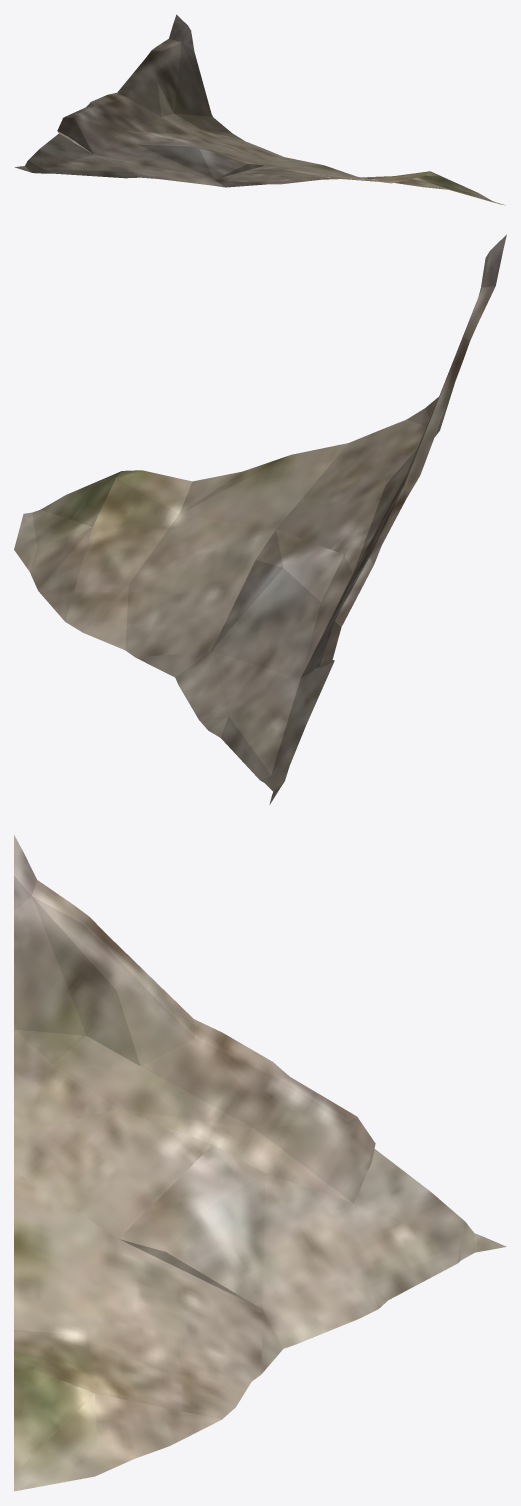
The picture shows the model from 3 angles, top to bottom: view 1: azimuth 30°, elevation 25°; view 2: azimuth 150°, elevation 25°; view 3: azimuth 270°, elevation 25°; orthographic projection. The views are drawn at different scales.
Bounding box in the file's own units: 1.07 × 0.8445 × 0.9151.
1 material, 1 textured.
